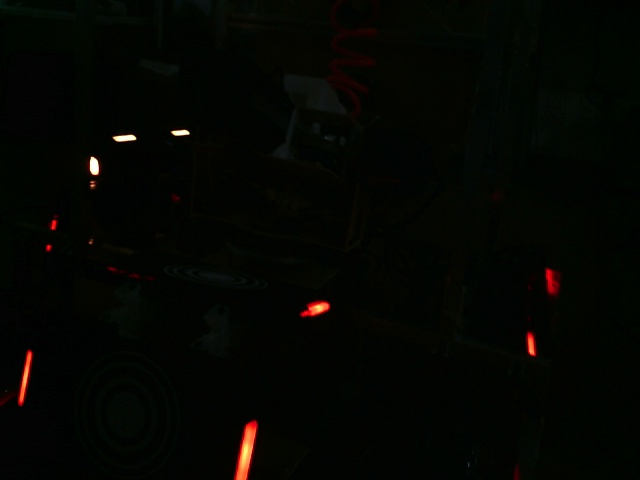lamp: (19, 347, 32, 408)
